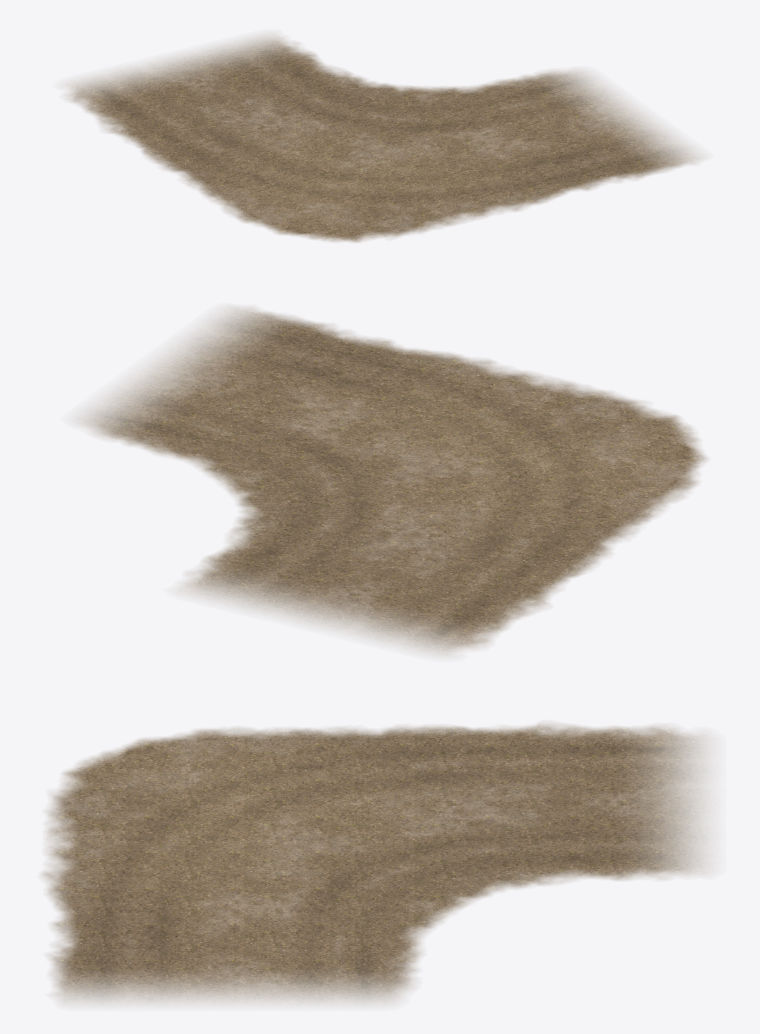
Rendered from road_bend_main_main.glb.
3 views of the same model, one above another, from view 1: azimuth 30°, elevation 25°; view 2: azimuth 150°, elevation 25°; view 3: azimuth 270°, elevation 25° (orthographic). The views are drawn at different scales.
Visible parts, largest first — view 1: road_bend_main_main; view 2: road_bend_main_main; view 3: road_bend_main_main.
Part boxes in pixels (box(x1,y1,x2,y2)): road_bend_main_main: box(66, 34, 701, 242); road_bend_main_main: box(78, 307, 706, 655); road_bend_main_main: box(42, 723, 707, 1003).
Size of the model in its own units: 21.5 by 0 by 21.5.
Materials: 1 (1 with a texture image).
